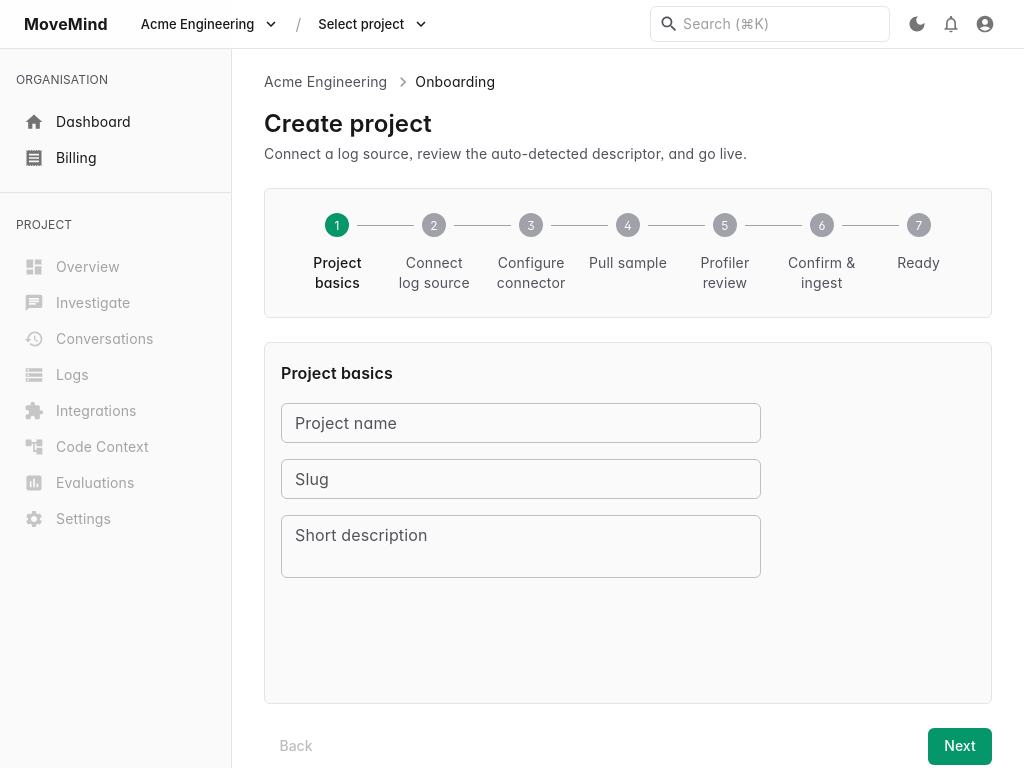
OnboardingWizard › shows configure step on step 2
This screenshot has width=1024, height=768.
Click the button "Next": (960, 746) [928, 728, 992, 765]
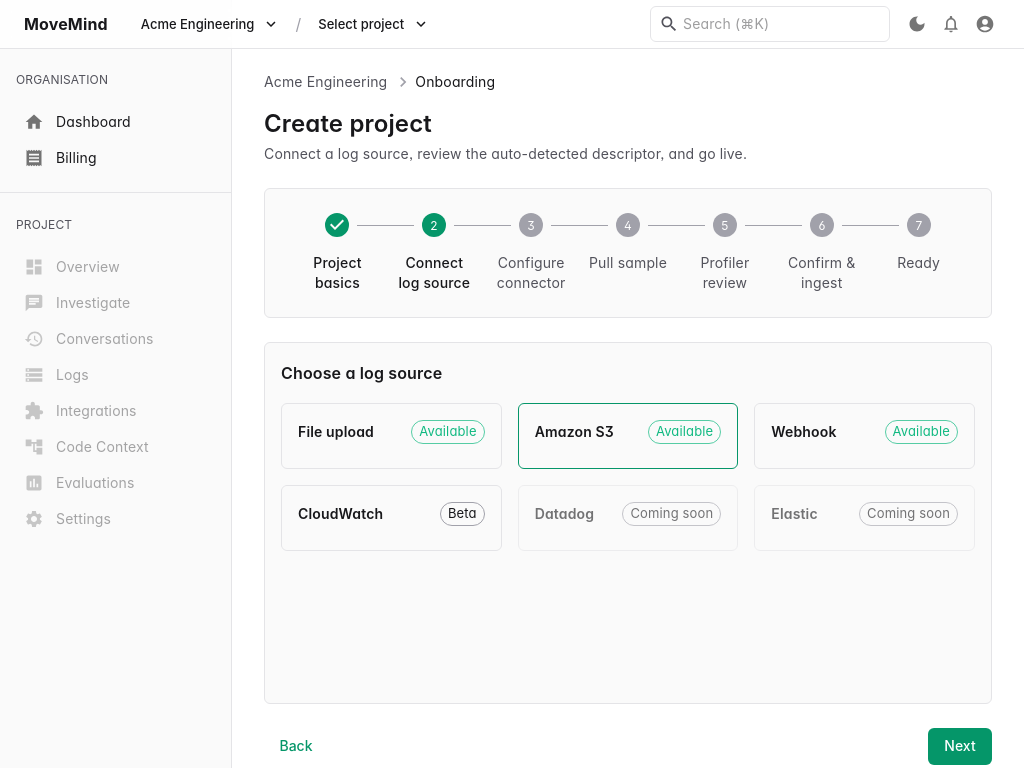
Click the button "Next": (960, 746) [928, 728, 992, 765]
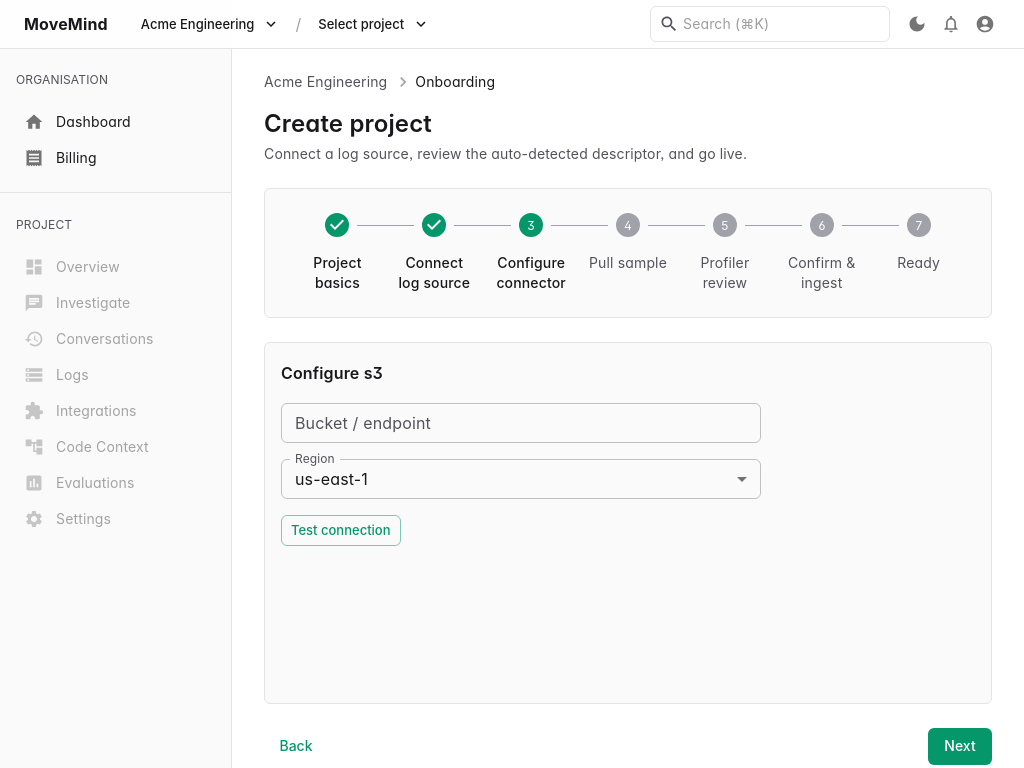
Check: the field labelled "Bucket / endpoint" is shown, box [281, 403, 761, 443]
Check: the button "Test connection" is shown, box [281, 515, 400, 546]
